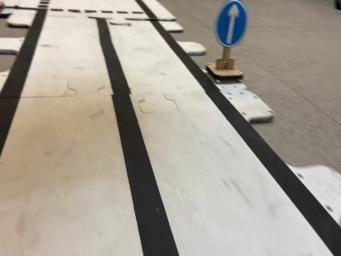forward: (206, 0, 248, 80), (206, 0, 248, 80), (206, 0, 248, 80), (206, 0, 248, 80), (206, 0, 248, 80), (206, 0, 248, 80)
street: (0, 0, 341, 255), (0, 0, 341, 255), (0, 0, 341, 255), (0, 0, 341, 255), (0, 0, 341, 255), (0, 0, 341, 255)
